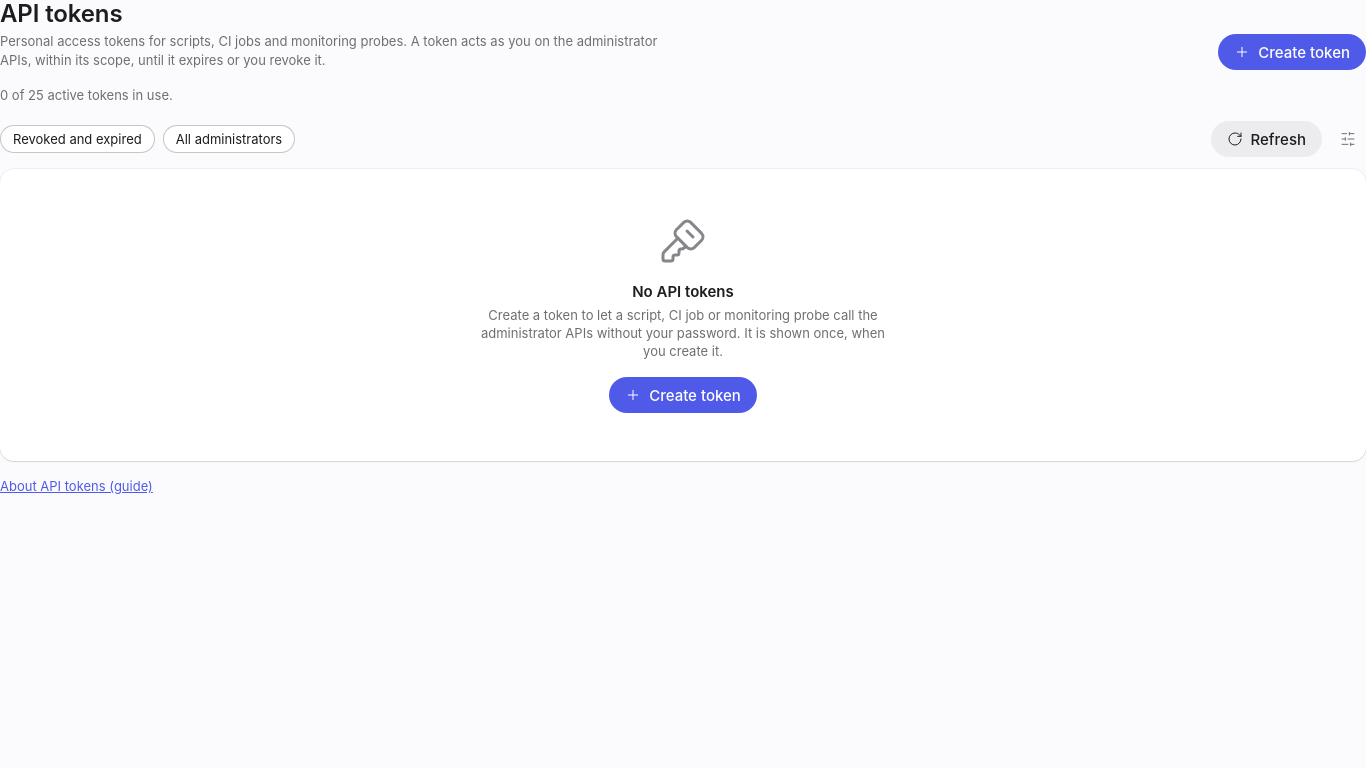
Test: Admin API tokens › says what will appear and offers to create, when there are no tokens
Expected: the heading "API tokens" is shown, 0,0 -> 122,28
Expected: the heading "No API tokens" is shown, 632,282 -> 734,301
Click the button with test id "api-tokens-empty-create": (683, 395) 609,377 -> 757,413
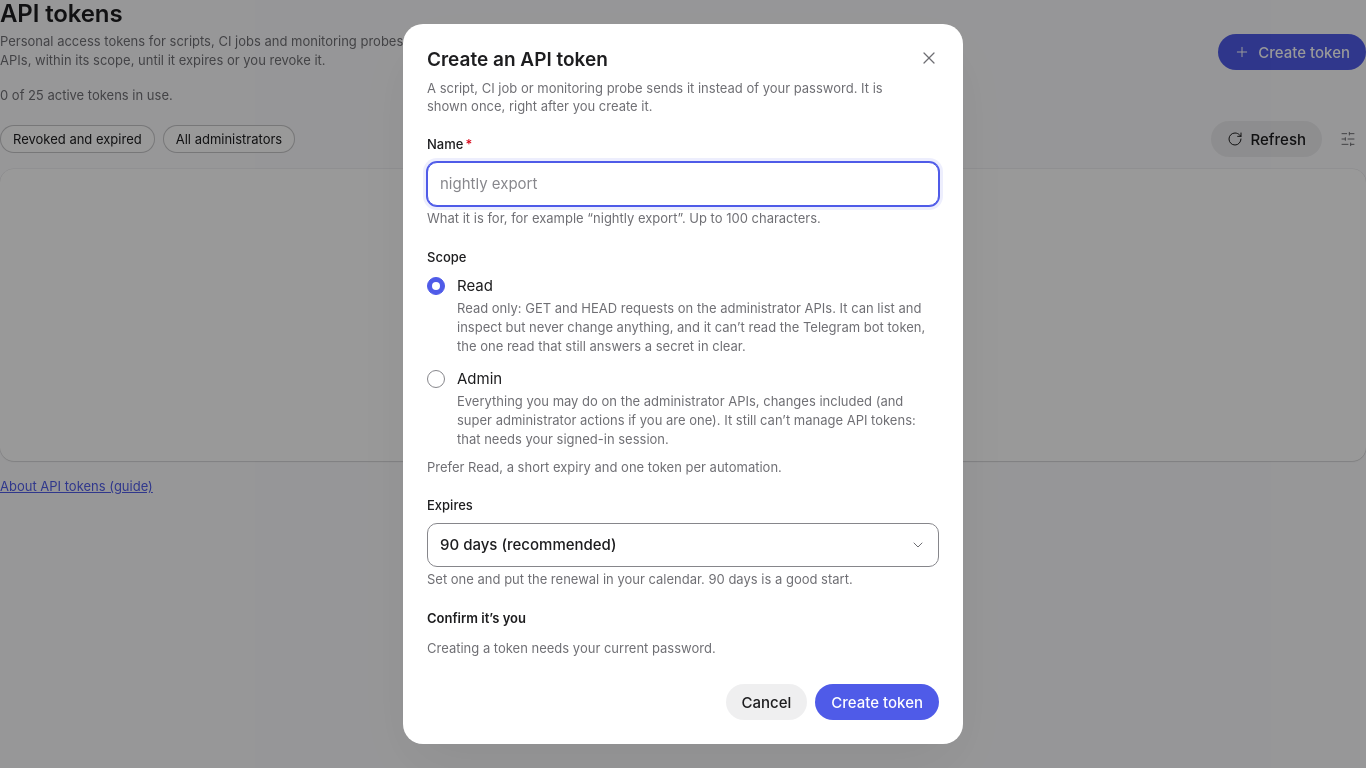
Result: the dialog "Create an API token" is shown at 403,24 -> 963,744
